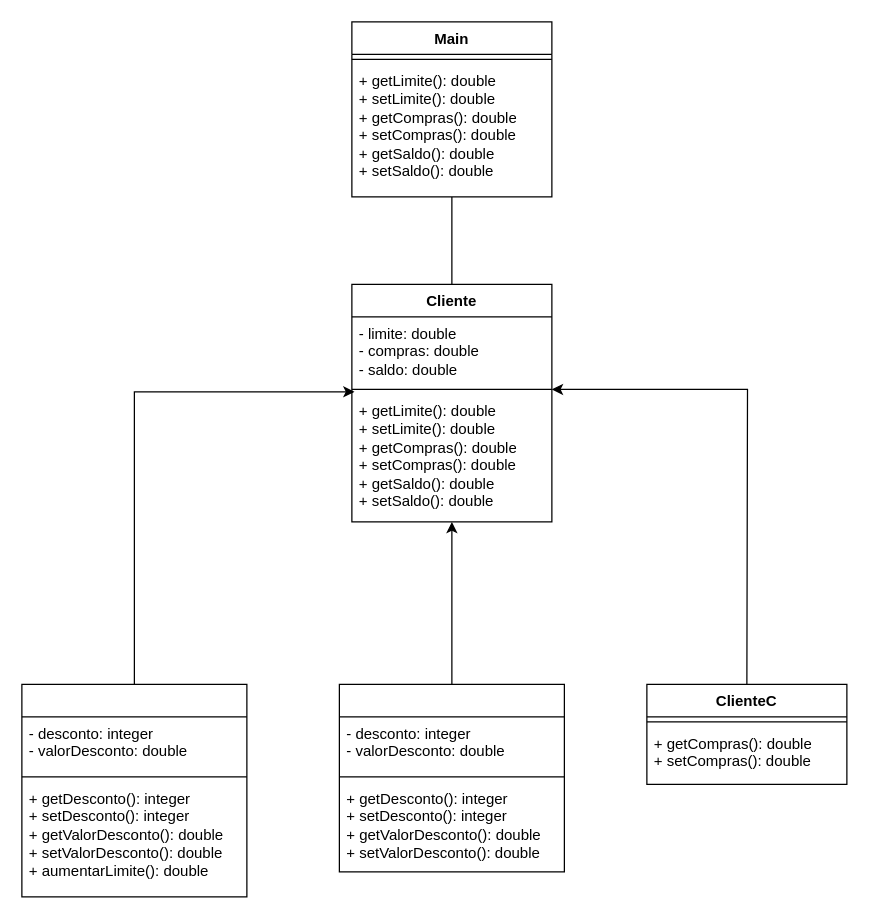
Some shapes in this 869 by 923 pixel diagram are drawn without their labels. Each missing label, with the box of its shape:
ClienteA: (21, 683, 247, 897)
ClienteB: (338, 683, 564, 872)
